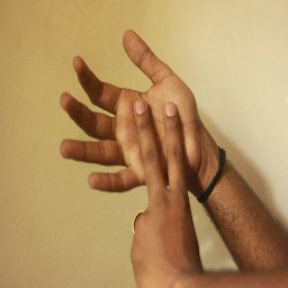N: (47, 22, 200, 270)
